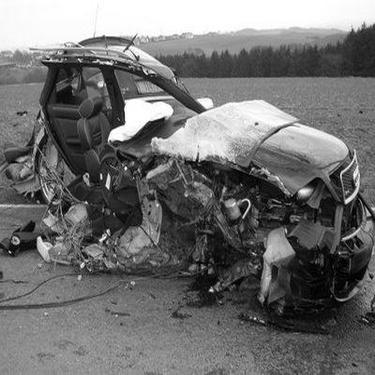car: (3, 25, 370, 331)
